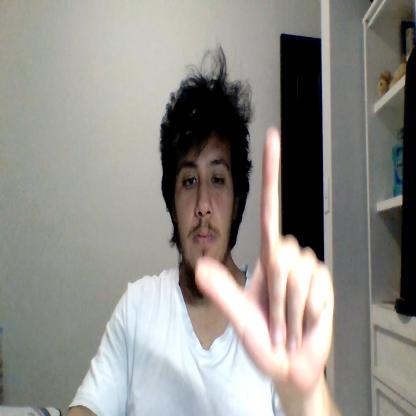L: (194, 127, 334, 390)
